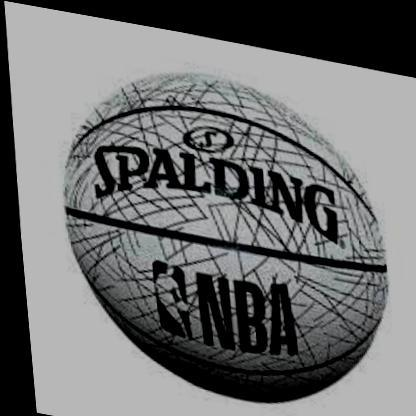basketball: (46, 40, 396, 415)
